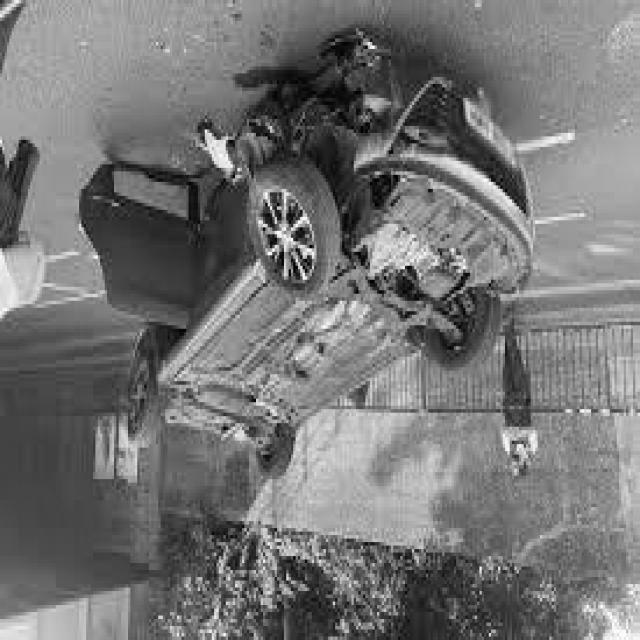severe: (71, 46, 539, 487)
